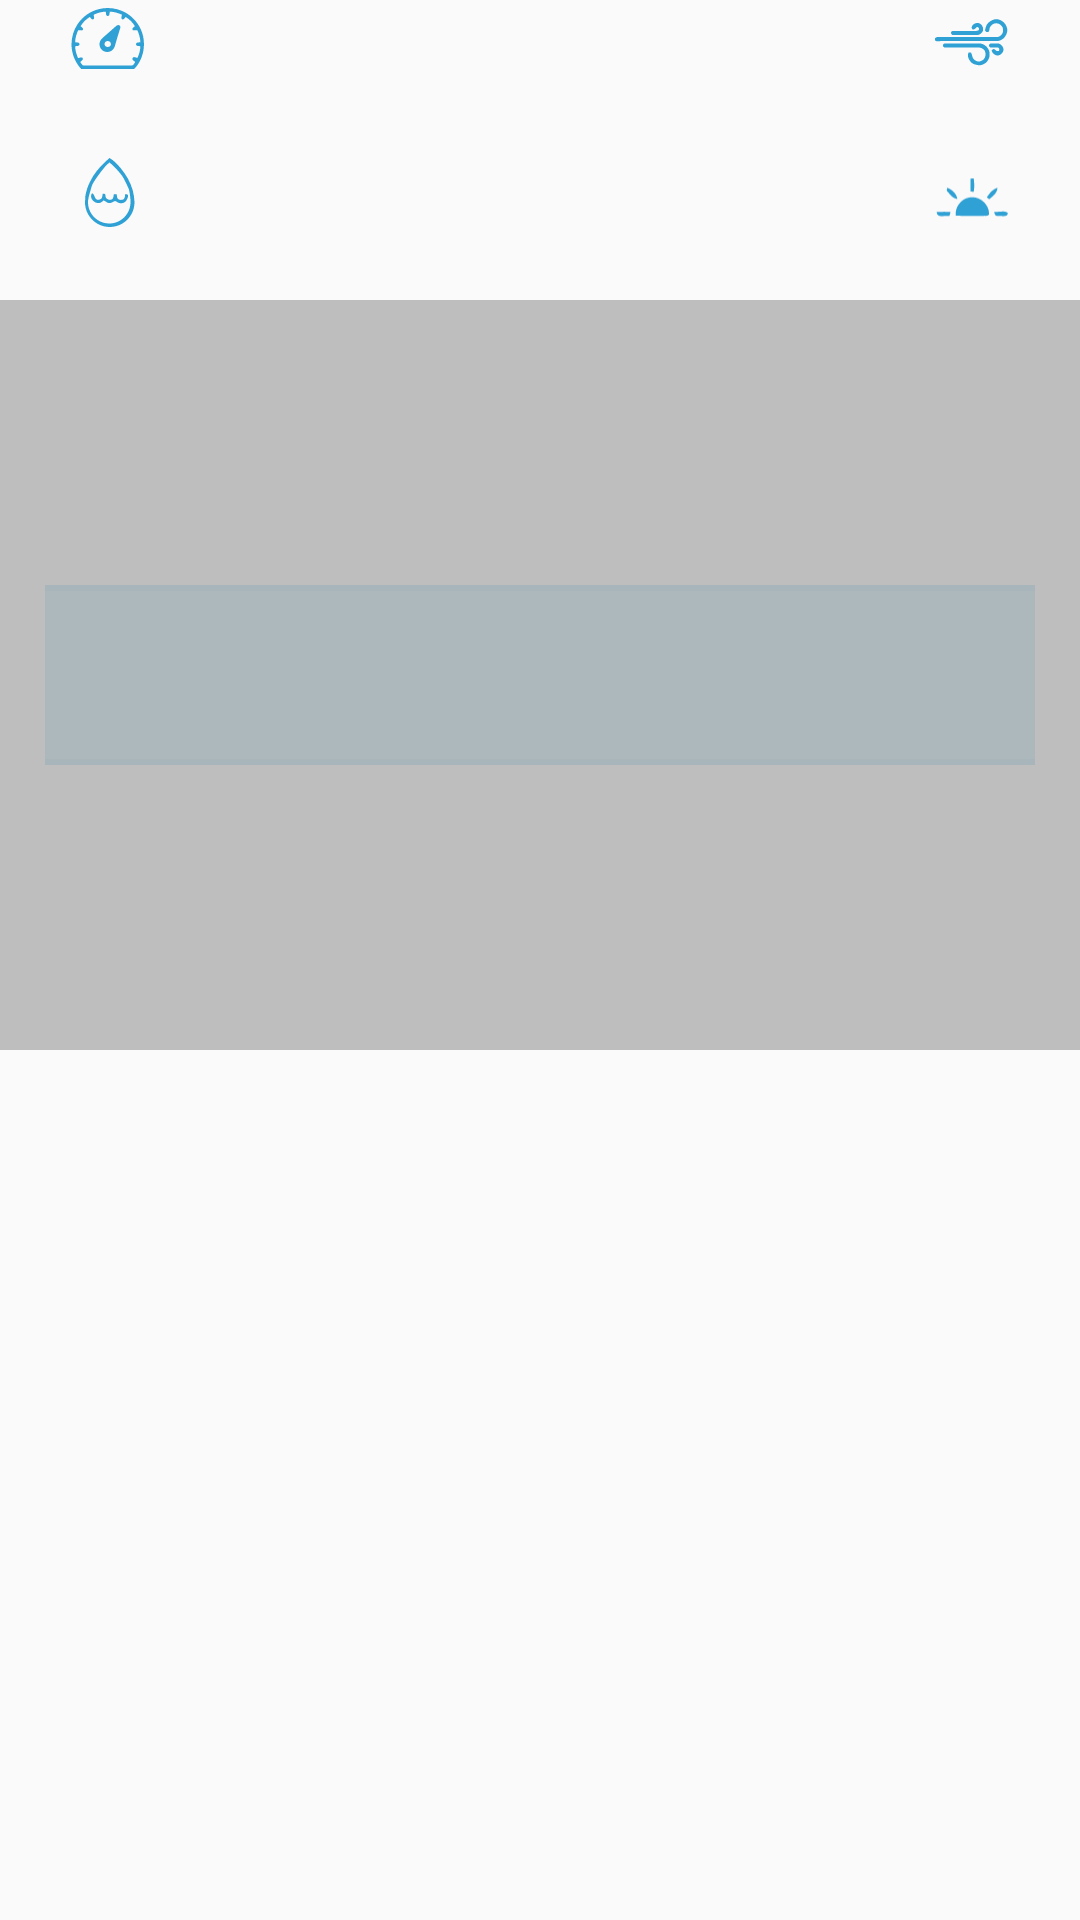

Icon click points for this 1080x1920 phone screenshot, format (x,y):
humidity: (110,192)
pressure: (107,38)
wind speed: (971,42)
